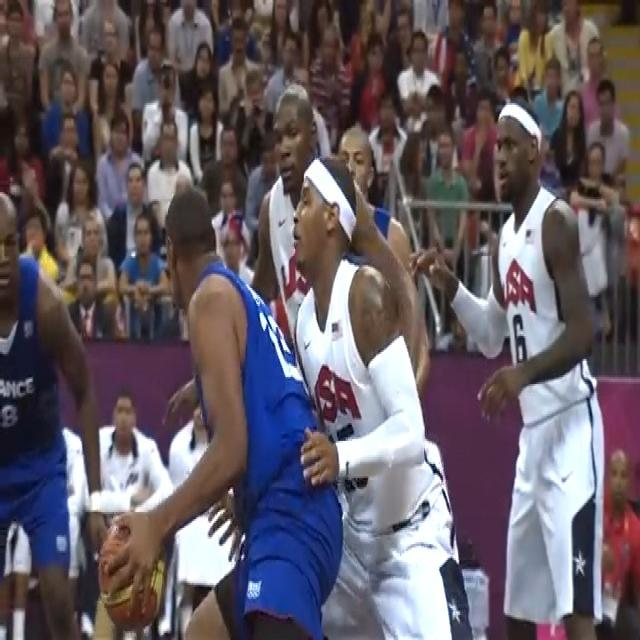basketball: (97, 517, 168, 622)
